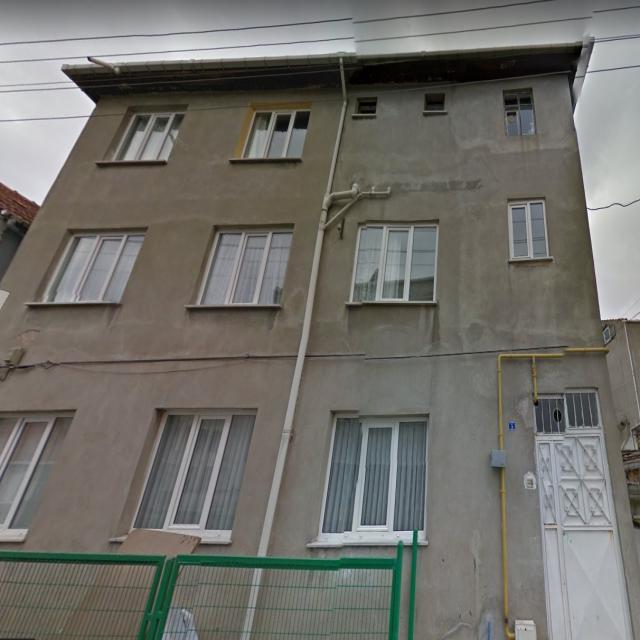Building: (0, 39, 640, 640)
